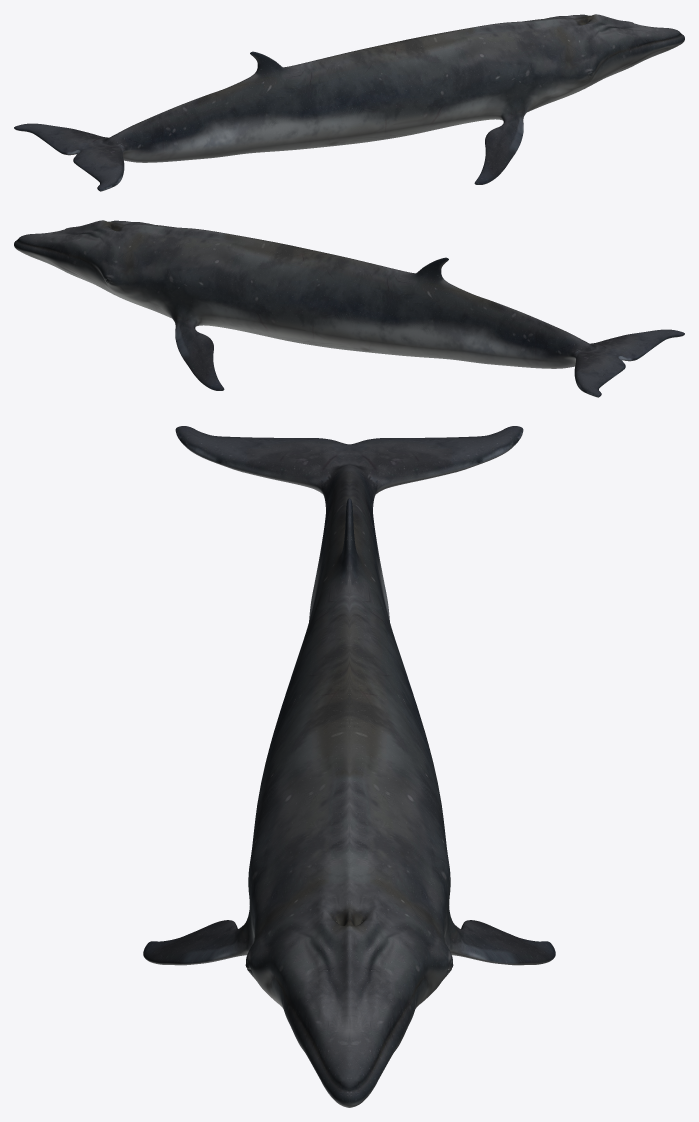
The model's file is model-cetacean-balaenoptera-brydei-v0677.glb.
The picture shows the model from 3 angles, top to bottom: view 1: azimuth 30°, elevation 25°; view 2: azimuth 150°, elevation 25°; view 3: azimuth 270°, elevation 25°; orthographic projection. The views are drawn at different scales.
Visible parts, largest first — view 1: balaenoptera-brydei source-derived exterior; view 2: balaenoptera-brydei source-derived exterior; view 3: balaenoptera-brydei source-derived exterior.
Part boxes in pixels (x1,y1,x2,y2): balaenoptera-brydei source-derived exterior: [14, 14, 684, 191]; balaenoptera-brydei source-derived exterior: [14, 220, 684, 397]; balaenoptera-brydei source-derived exterior: [143, 426, 555, 1107].
Bounding box in the file's own units: 3.84 × 0.8147 × 1.09.
1 material, 1 textured.
